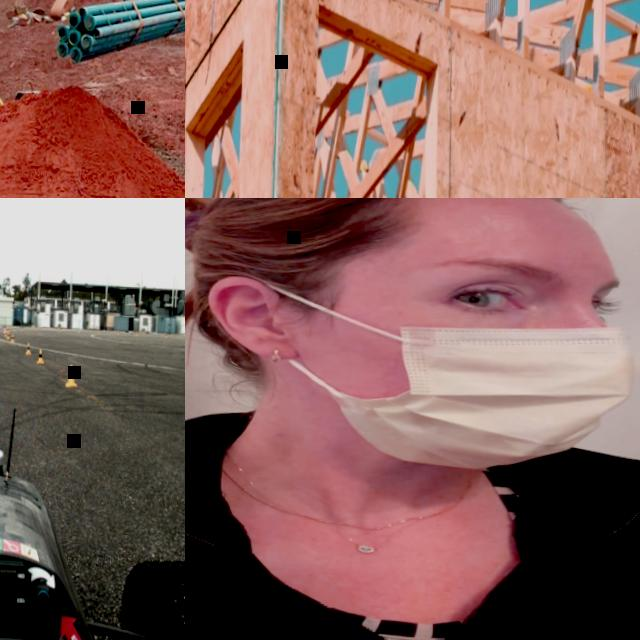Mask: (243, 271, 640, 474)
NO-Hardhat: (185, 198, 605, 256)
NO-Safety Vest: (185, 418, 640, 640)
Person: (185, 198, 640, 640)
Safety Cone: (63, 362, 77, 385), (35, 347, 43, 363), (24, 341, 30, 353), (9, 332, 13, 341), (5, 331, 8, 338), (3, 329, 6, 335), (2, 325, 4, 334), (164, 331, 167, 336), (77, 326, 79, 332), (116, 328, 119, 332), (5, 327, 7, 332), (7, 326, 9, 331), (58, 325, 60, 330), (97, 327, 99, 332), (135, 329, 137, 334), (183, 331, 185, 336), (12, 325, 14, 329), (20, 325, 22, 329), (35, 325, 37, 329), (129, 329, 131, 333), (153, 330, 155, 334)
vehicle: (0, 390, 185, 640), (127, 0, 185, 198)
